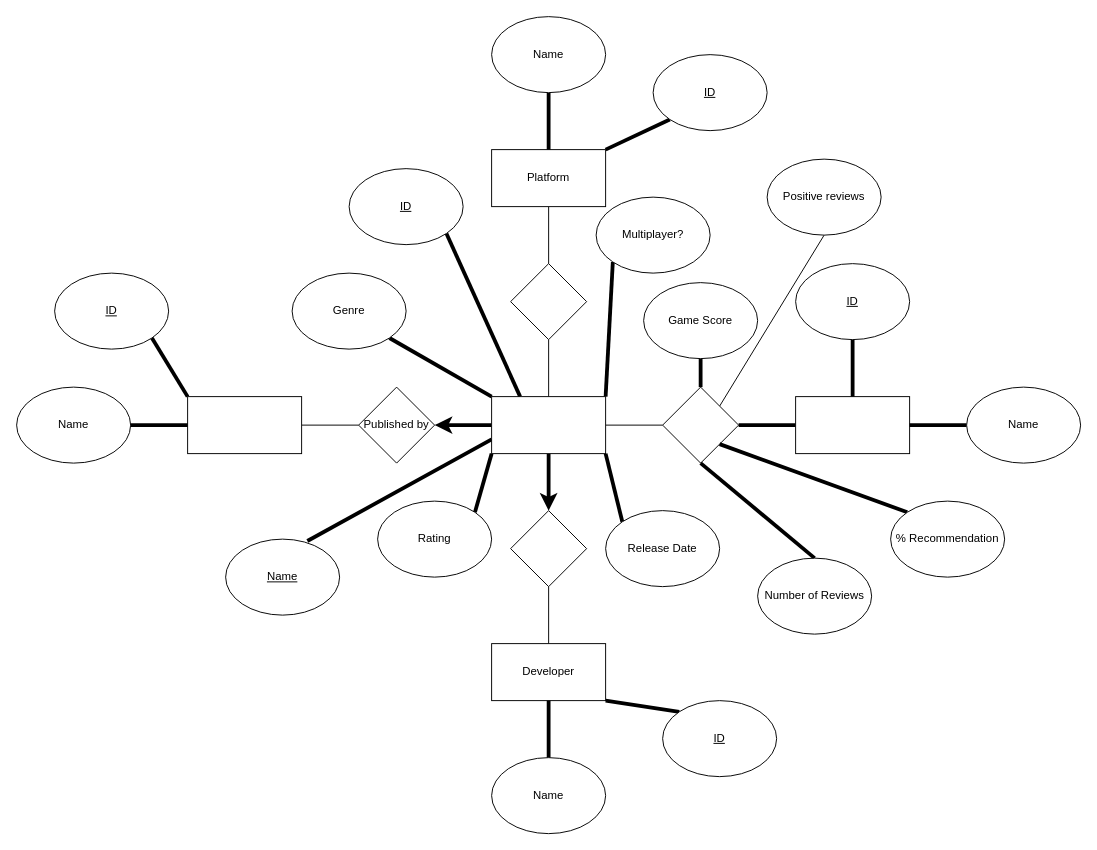
Image size: 1097x850. Some labels were removed from this diagram. The shapes that lost their labels are listed below. From the top down, each one's centre as x and y in pixels, then its label:
At point 548,301: "Played in".
At point 244,425: "Publisher".
At point 548,425: "Game".
At point 700,424: "Reviewed by".
At point 852,425: "Review Site".
At point 548,548: "Developed By".
